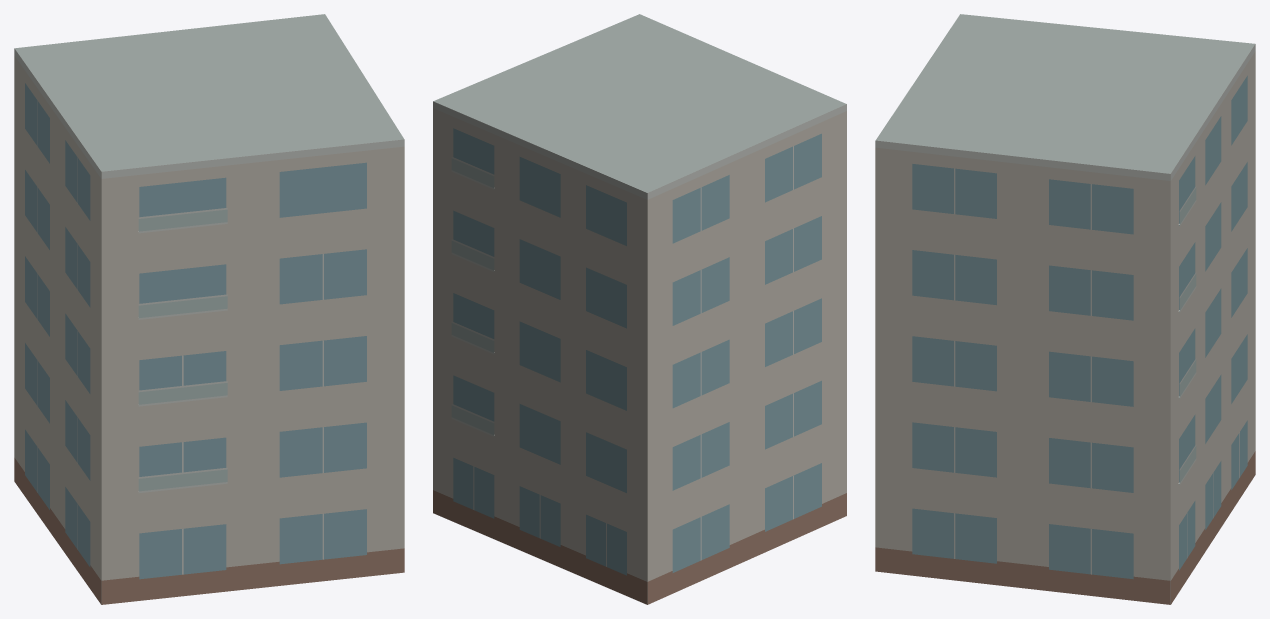
Rendered from survey-upis-32877763.glb.
3 renders of one model, left to right at view 1: azimuth 30°, elevation 25°; view 2: azimuth 150°, elevation 25°; view 3: azimuth 270°, elevation 25°, orthographic. The views are drawn at different scales.
Visible parts, largest first — view 1: survey-upis-32877763.tmp; view 2: survey-upis-32877763.tmp; view 3: survey-upis-32877763.tmp.
Boxes of the visible parts, x1,y1,x2,y2 form: survey-upis-32877763.tmp: [14, 14, 404, 604]; survey-upis-32877763.tmp: [433, 14, 846, 604]; survey-upis-32877763.tmp: [875, 14, 1255, 604].
Size of the model in its own units: 11.75 by 14.75 by 11.8.
